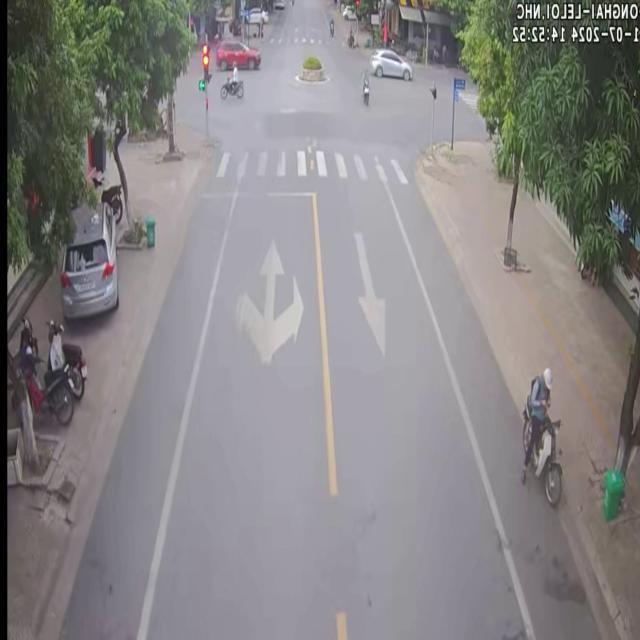car: (58, 200, 117, 319), (214, 38, 259, 68), (368, 47, 410, 78)
motobike: (519, 365, 560, 505), (17, 345, 72, 422), (46, 318, 86, 398), (219, 74, 242, 98), (359, 69, 368, 104)
red_light: (202, 45, 209, 80)
stop_line: (196, 189, 314, 198)
